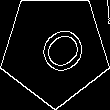O_SW: (23, 17, 87, 82)
